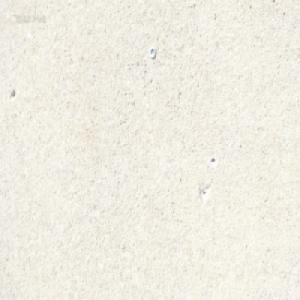Washer: (149, 46, 156, 58)
